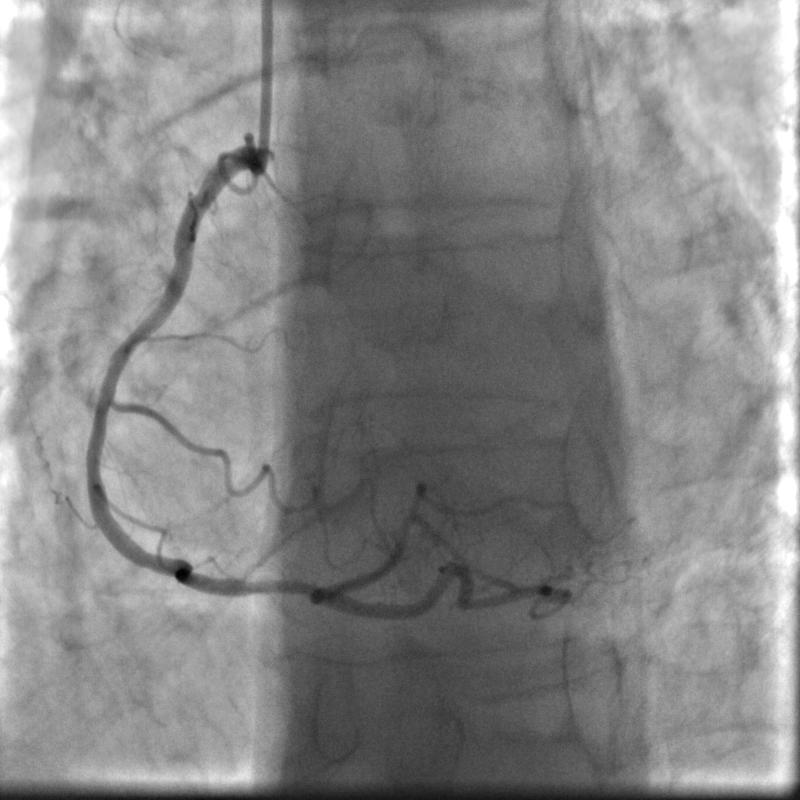Stenosis: (232, 561, 320, 614)
